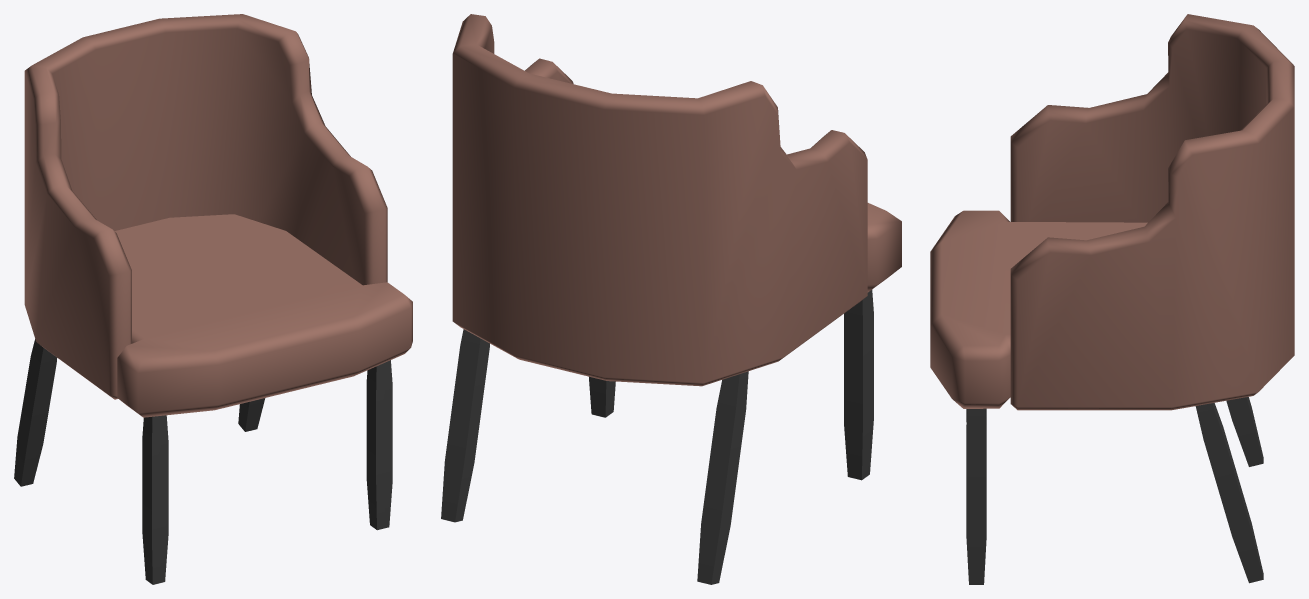
The model's file is lounge_chair.glb.
3 renders of one model, left to right at view 1: azimuth 30°, elevation 25°; view 2: azimuth 150°, elevation 25°; view 3: azimuth 270°, elevation 25°, orthographic. The views are drawn at different scales.
Parts seen in each view (by area): view 1: lounge_chair_001; view 2: lounge_chair_001; view 3: lounge_chair_001.
Part boxes in pixels (<box>): lounge_chair_001: <box>14,14,412,584</box>; lounge_chair_001: <box>441,14,901,584</box>; lounge_chair_001: <box>930,14,1294,584</box>.
Bounding box in the file's own units: 0.6577 × 0.94 × 0.6995.
1 material, 1 textured.
